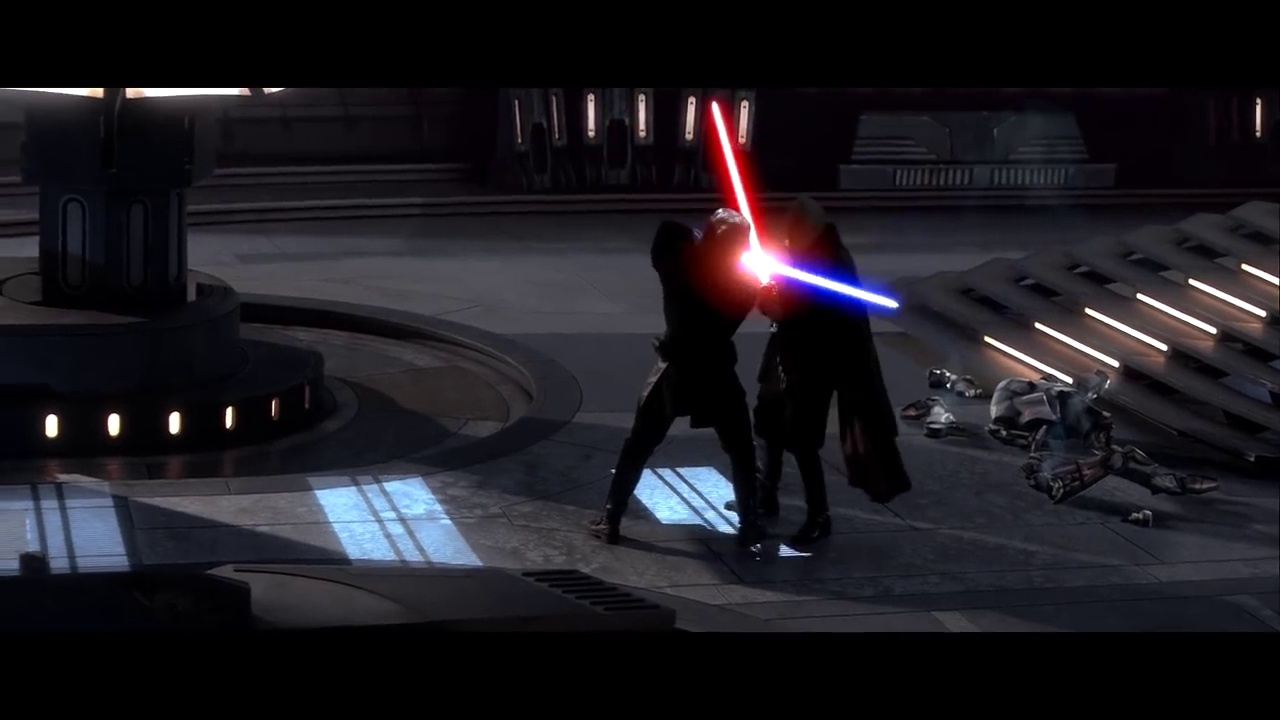lightsaber: (695, 99, 776, 286), (727, 250, 912, 313)
